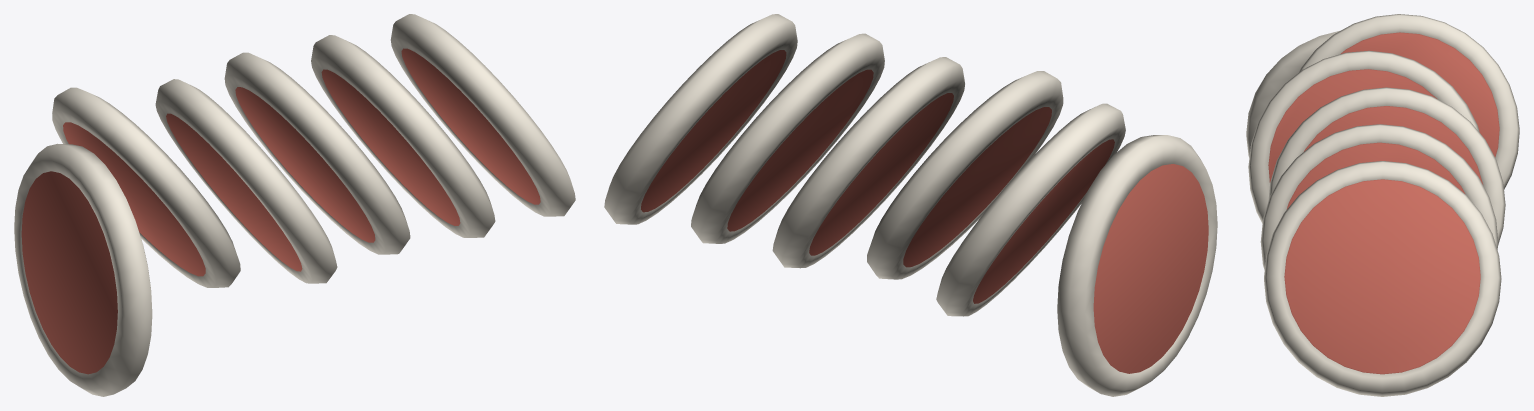
Rendered from prep_slices.glb.
3 views of the same model, side by side, from view 1: azimuth 30°, elevation 25°; view 2: azimuth 150°, elevation 25°; view 3: azimuth 270°, elevation 25° (orthographic). The views are drawn at different scales.
Visible parts, largest first — view 1: PART; view 2: PART; view 3: PART.
Boxes of the visible parts, x1=… form: PART: x1=14, y1=14, x2=575, y2=396; PART: x1=604, y1=14, x2=1217, y2=396; PART: x1=1246, y1=14, x2=1519, y2=396.
Bounding box in the file's own units: 0.1563 × 0.0807 × 0.0818.
